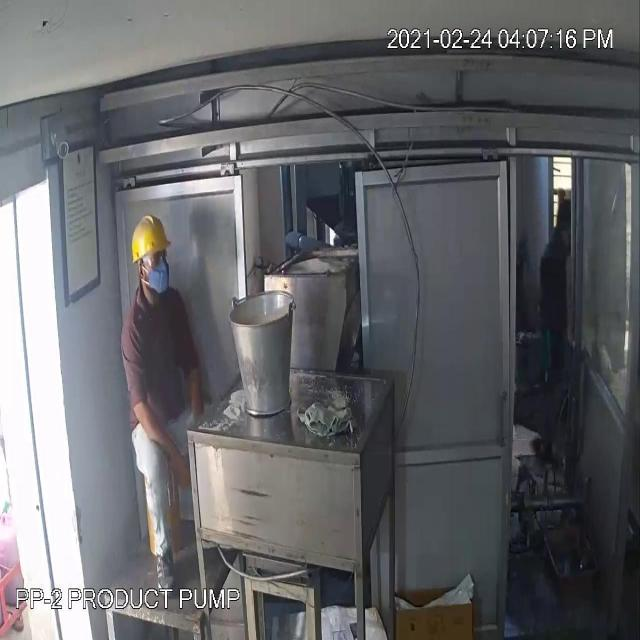helmet: (128, 210, 173, 268)
